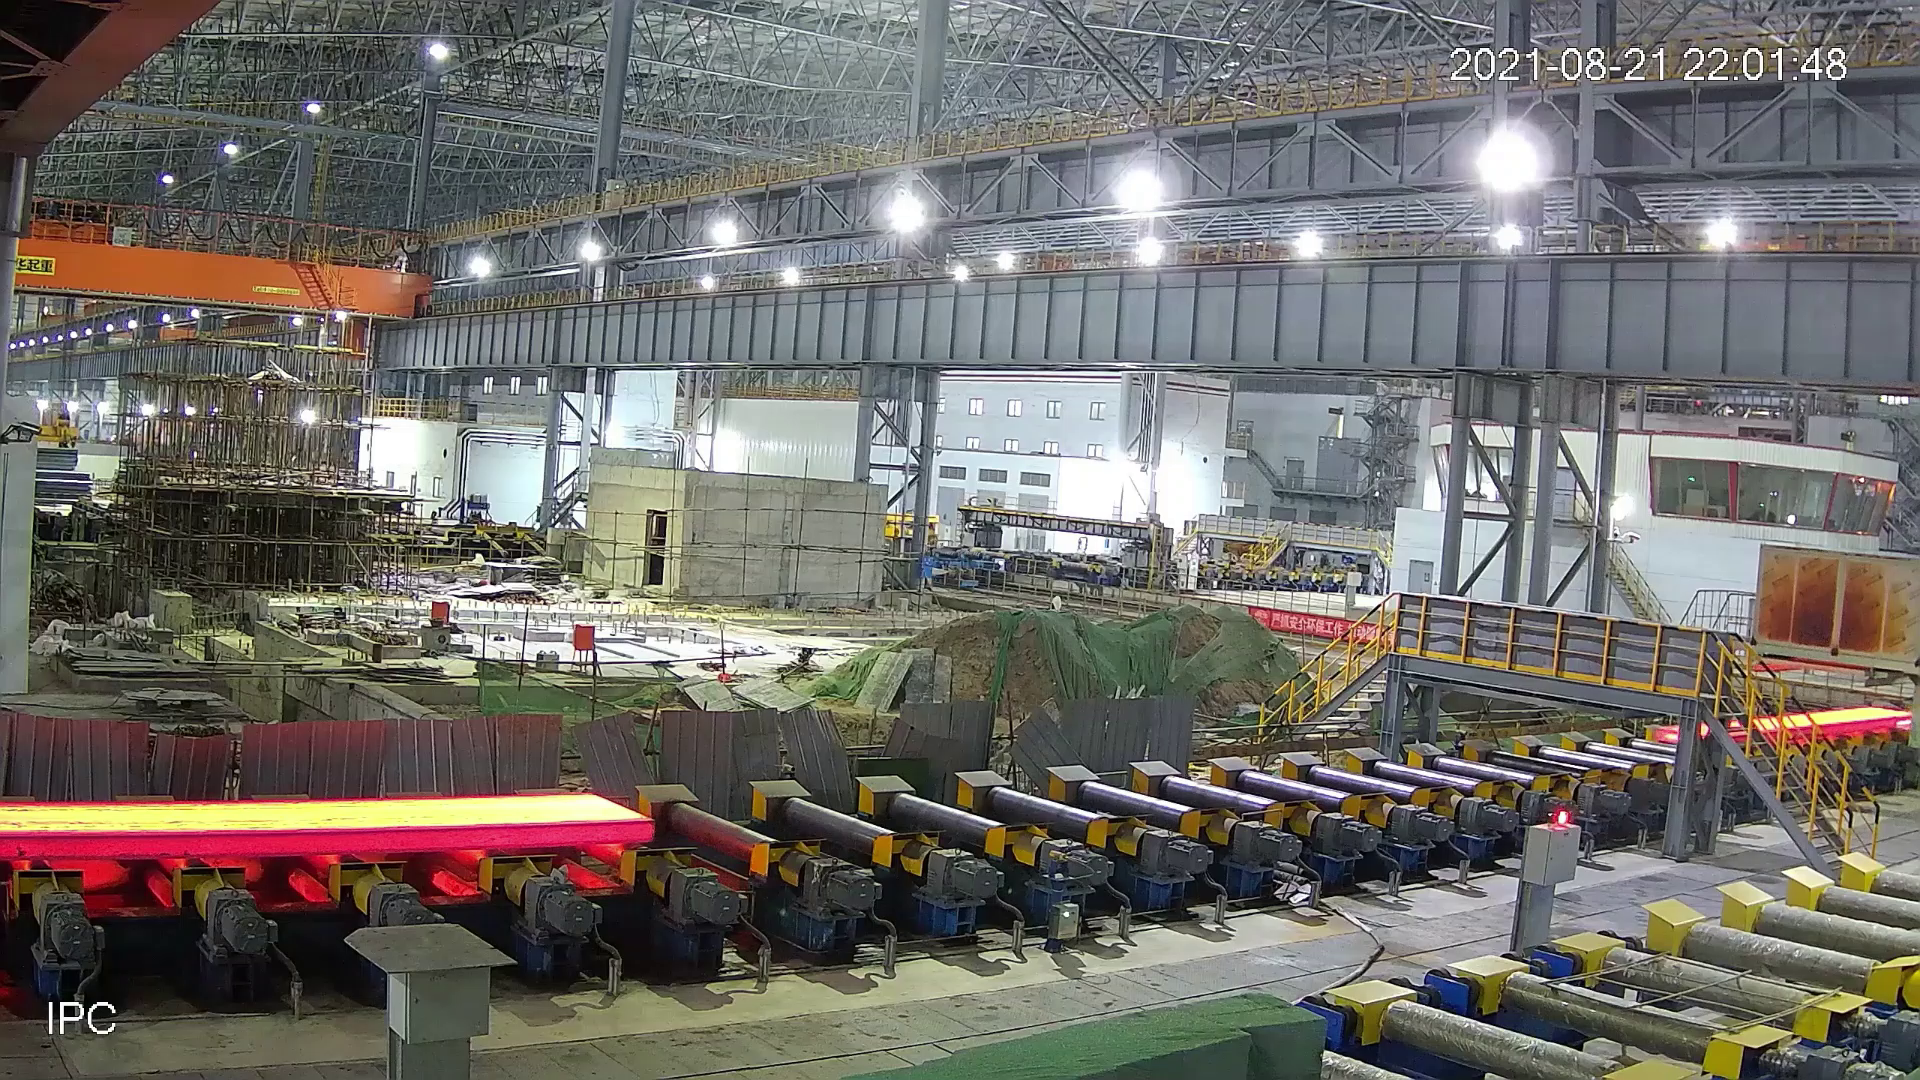slab: (1, 793, 655, 862), (1643, 703, 1911, 756)
